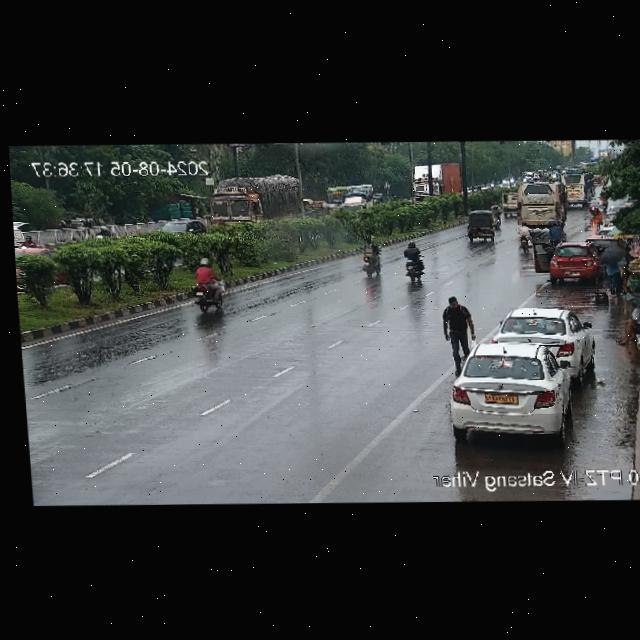bus: (326, 180, 373, 204)
car: (444, 342, 578, 439), (493, 305, 593, 370), (513, 181, 567, 224), (546, 244, 602, 282), (458, 211, 500, 249), (558, 167, 591, 208), (145, 218, 206, 235)
motorcycle: (177, 261, 230, 317), (400, 243, 431, 284), (357, 240, 386, 277), (515, 223, 532, 252)
person: (442, 296, 477, 375), (596, 233, 633, 294), (611, 301, 640, 346), (544, 221, 562, 247)
truck: (204, 176, 303, 226), (410, 161, 466, 201), (345, 192, 379, 214)
